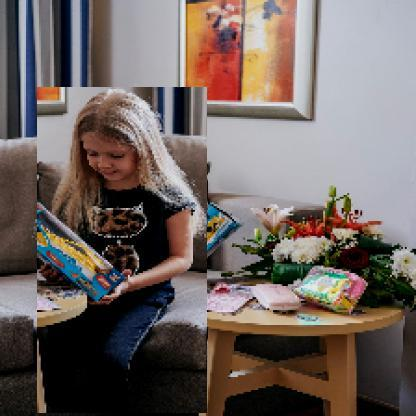child: (38, 88, 209, 415)
